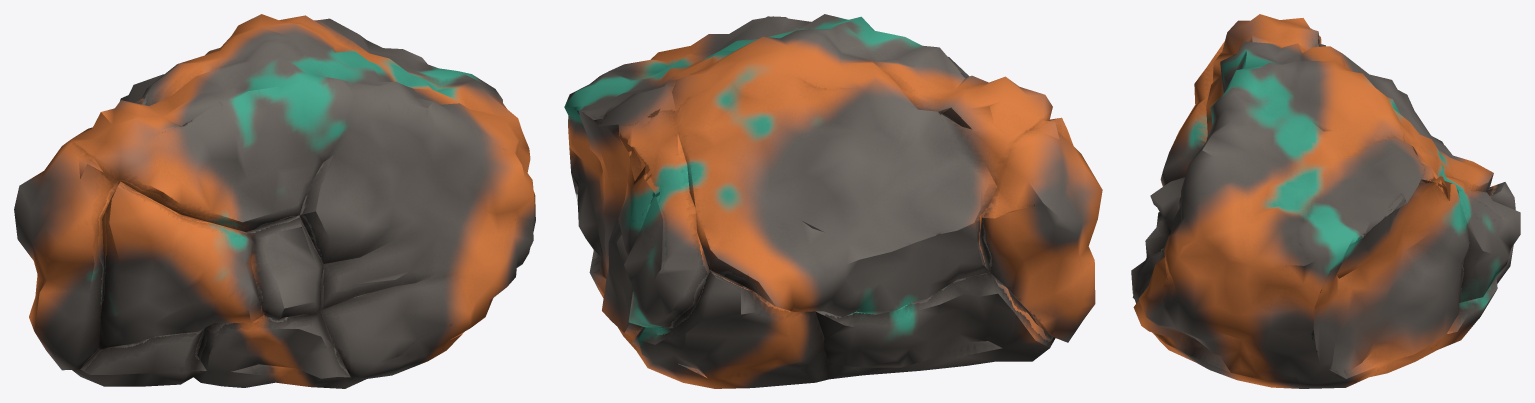
File: mineral_cobre.fbx
3 renders of one model, left to right at view 1: azimuth 30°, elevation 25°; view 2: azimuth 150°, elevation 25°; view 3: azimuth 270°, elevation 25°, orthographic. The views are drawn at different scales.
Visible parts, largest first — view 1: mineral_cobre; view 2: mineral_cobre; view 3: mineral_cobre.
Boxes of the visible parts, bbox=[...] form: mineral_cobre: bbox=[14, 14, 535, 388]; mineral_cobre: bbox=[564, 14, 1102, 388]; mineral_cobre: bbox=[1131, 14, 1520, 388].
Size of the model in its own units: 2.63 by 1.45 by 2.07.
1 material, 1 textured.
